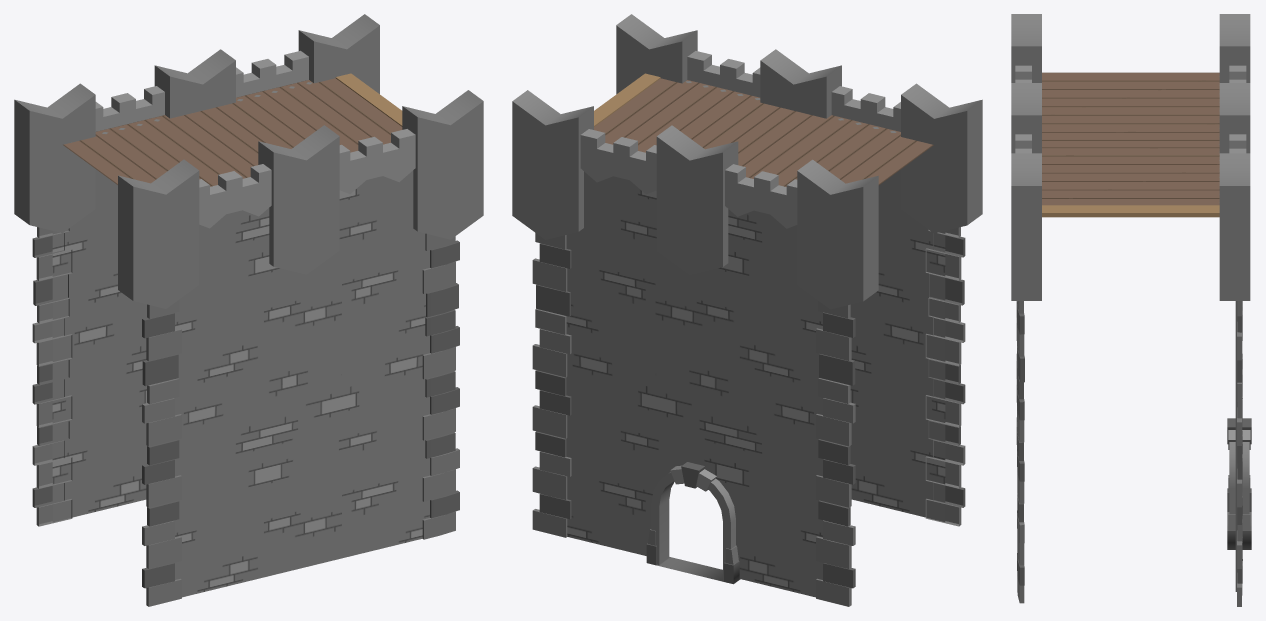
The model's file is wallDoor.gltf.
3 renders of one model, left to right at view 1: azimuth 30°, elevation 25°; view 2: azimuth 150°, elevation 25°; view 3: azimuth 270°, elevation 25°, orthographic.
Parts seen in each view (by area): view 1: wallDoor; view 2: wallDoor; view 3: wallDoor.
Part boxes in pixels (x1=…): wallDoor: x1=14, y1=14, x2=483, y2=606; wallDoor: x1=512, y1=14, x2=982, y2=606; wallDoor: x1=1011, y1=14, x2=1251, y2=606.
Bounding box in the file's own units: 11.47 × 13.38 × 6.78.
Materials: 8 (2 with a texture image).
